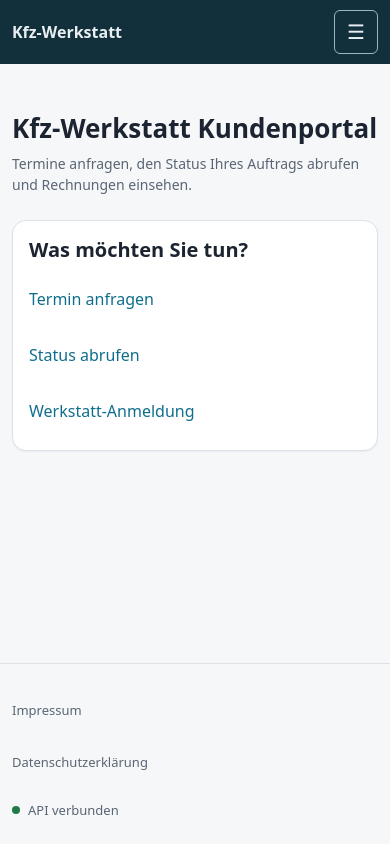
Test case: mobile navigation › toggles the menu and reports state to assistive tech
The image size is (390, 844).
Click the button named "Menü öffnen" at [356, 32], box [334,10,378,54]
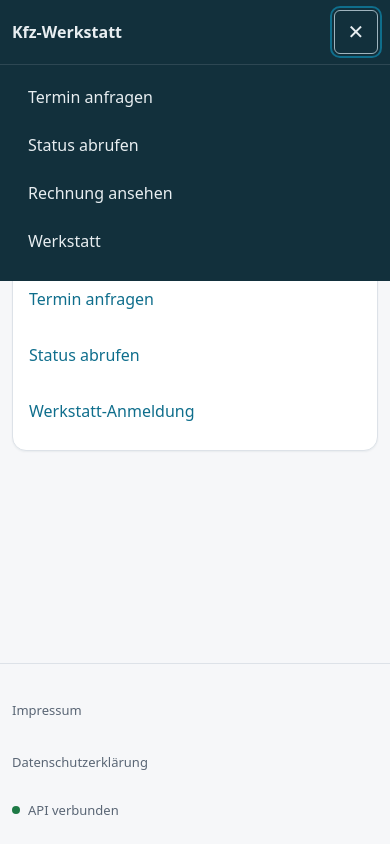
Now the button named "Menü schließen" is expanded, box [334,10,378,54]
